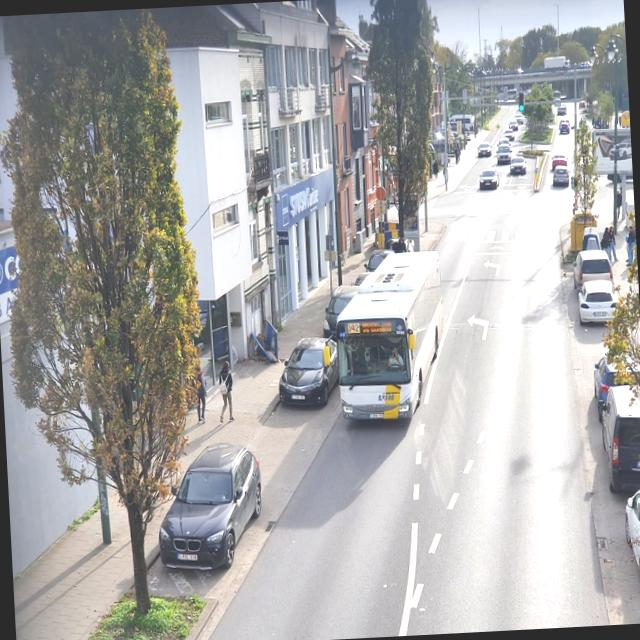bus-number: (348, 322, 360, 333)
